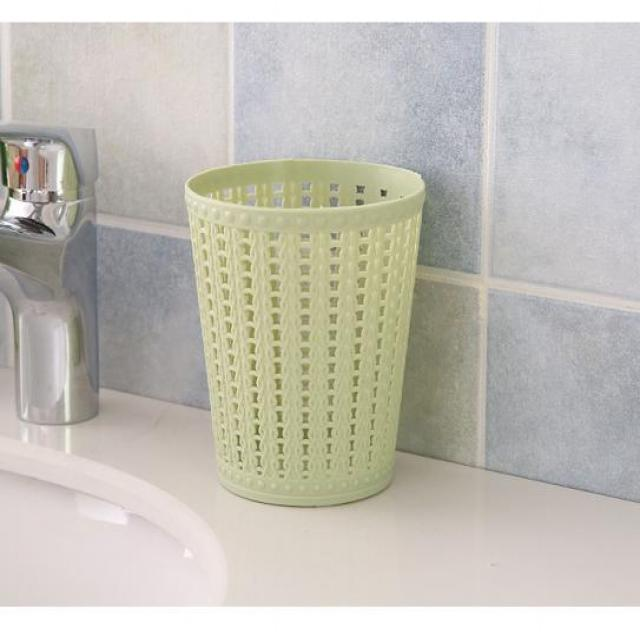Dustbin: (182, 153, 430, 513)
